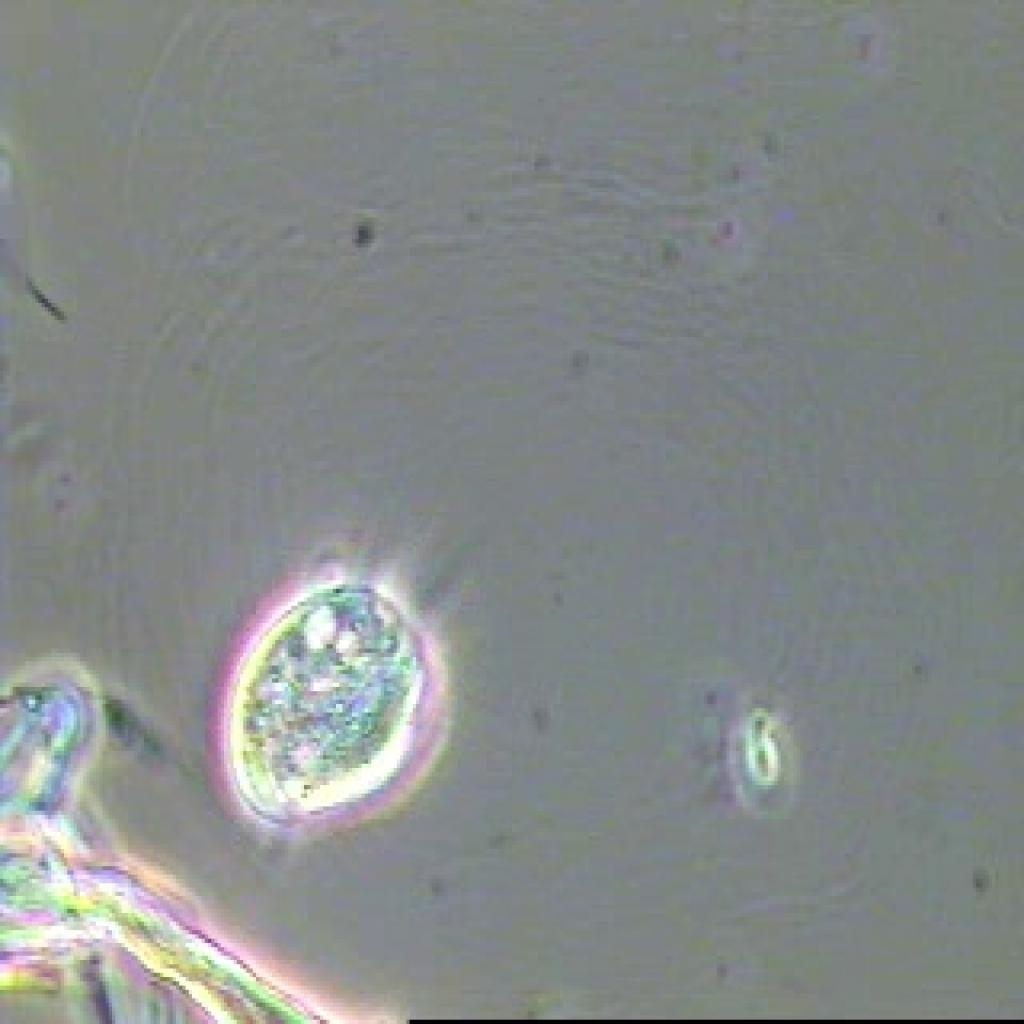Aspidisca: (203, 561, 453, 851)
